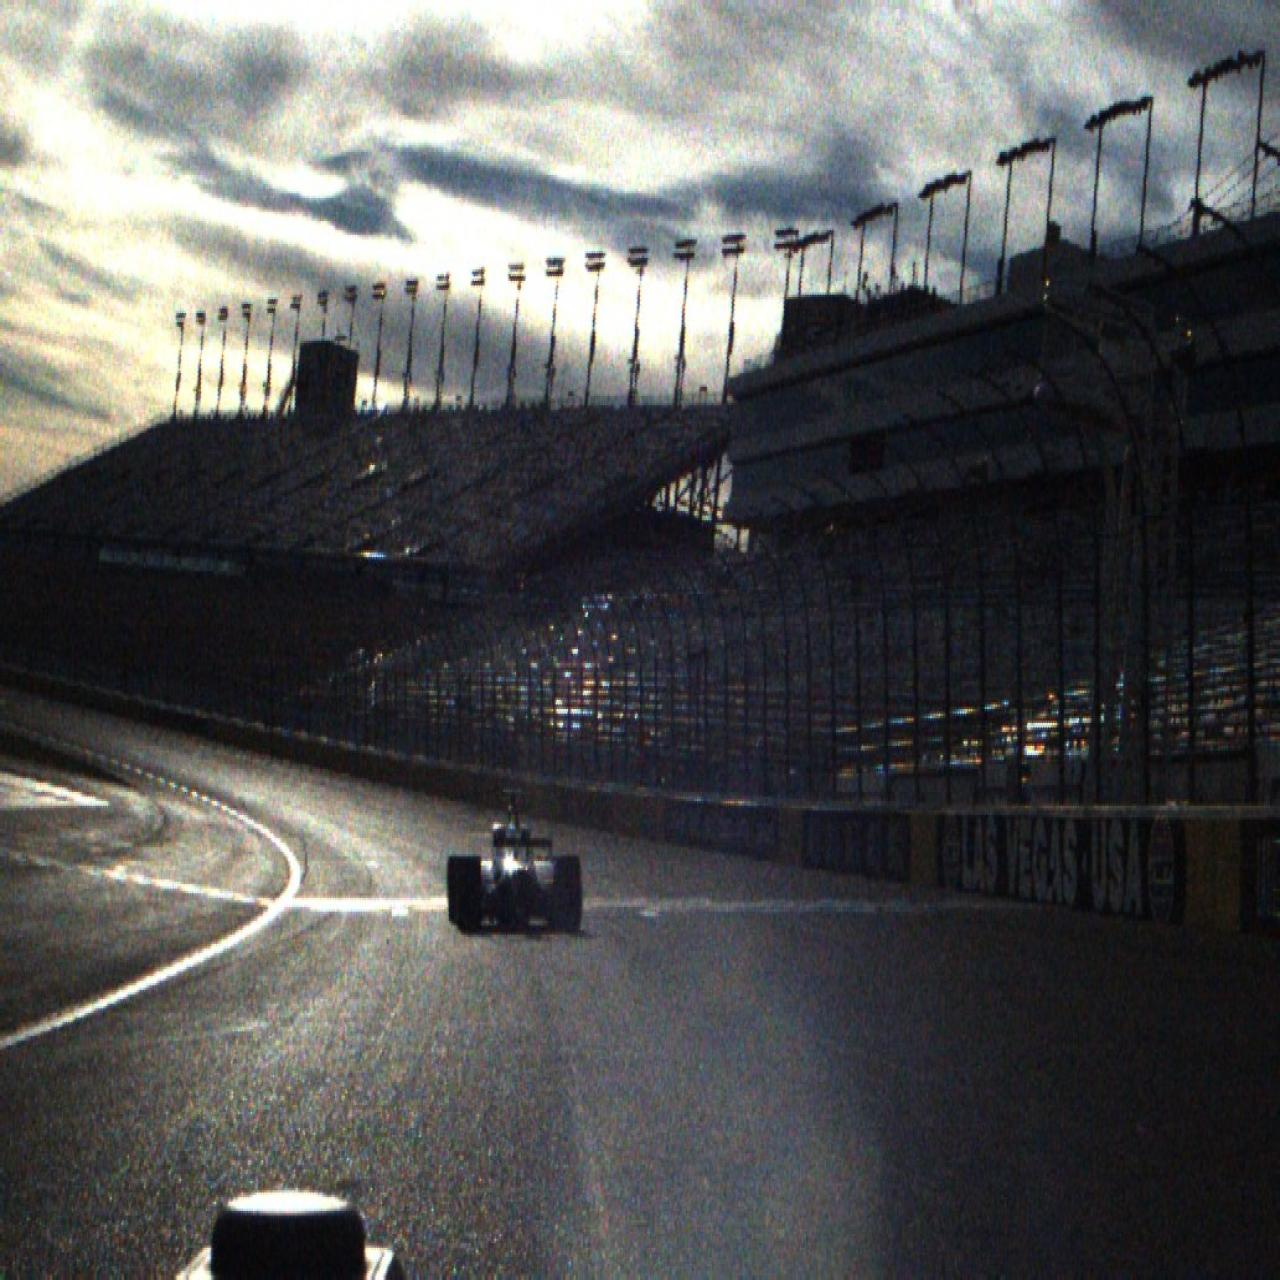AV: (447, 788, 583, 935)
Wheel: (554, 855, 582, 935), (456, 856, 481, 935), (448, 855, 460, 924)
